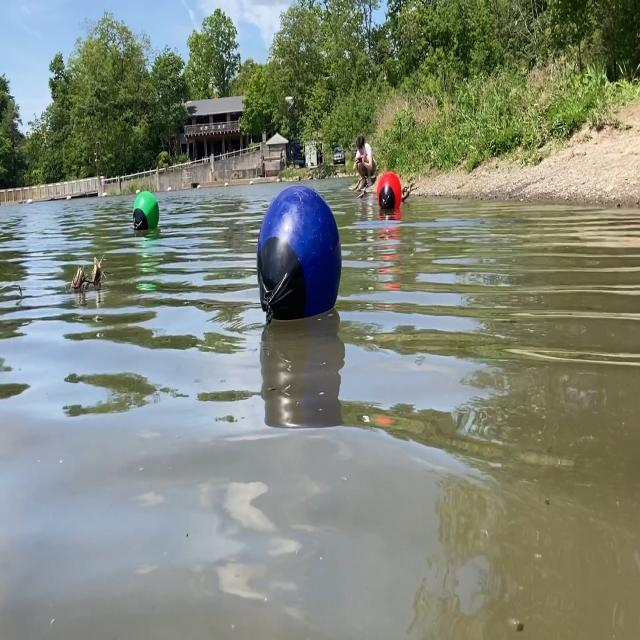buoy: (256, 184, 342, 318), (132, 186, 159, 234), (377, 170, 402, 214)
